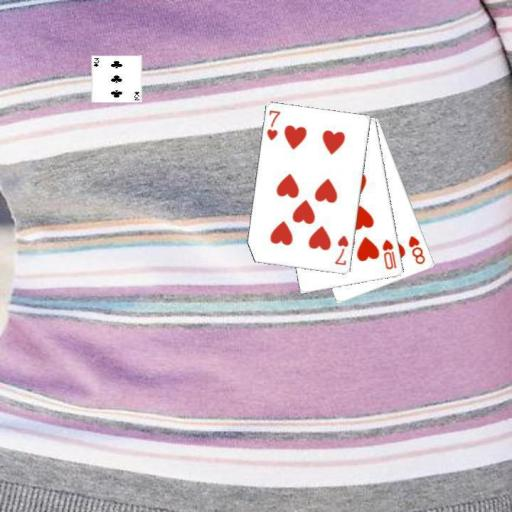card-corner: (405, 232, 427, 266), (379, 236, 398, 271), (332, 232, 350, 268), (264, 108, 282, 142)
